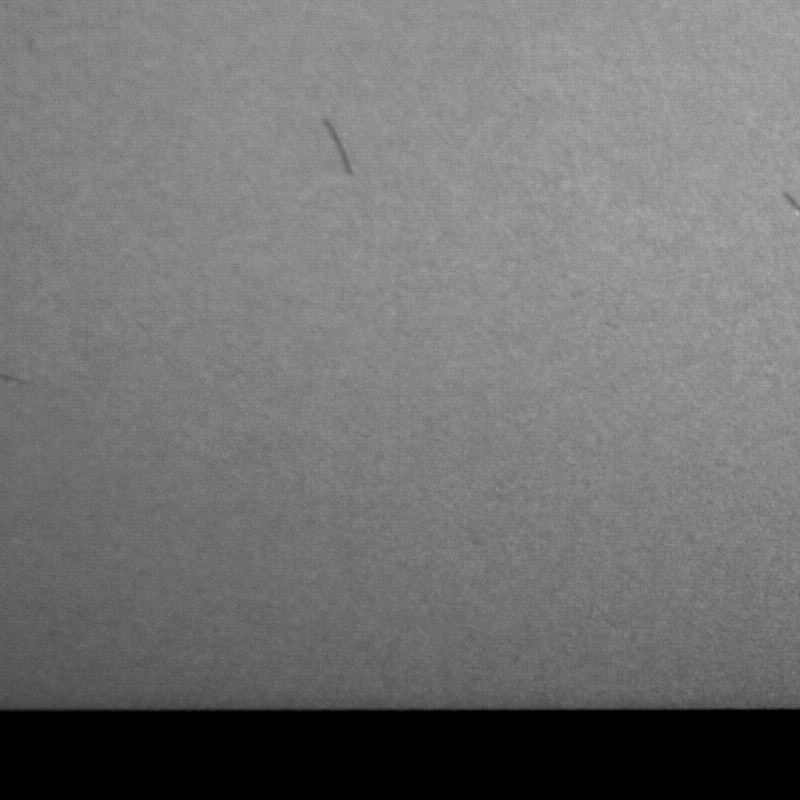defect: (321, 115, 357, 180), (781, 189, 800, 211)
